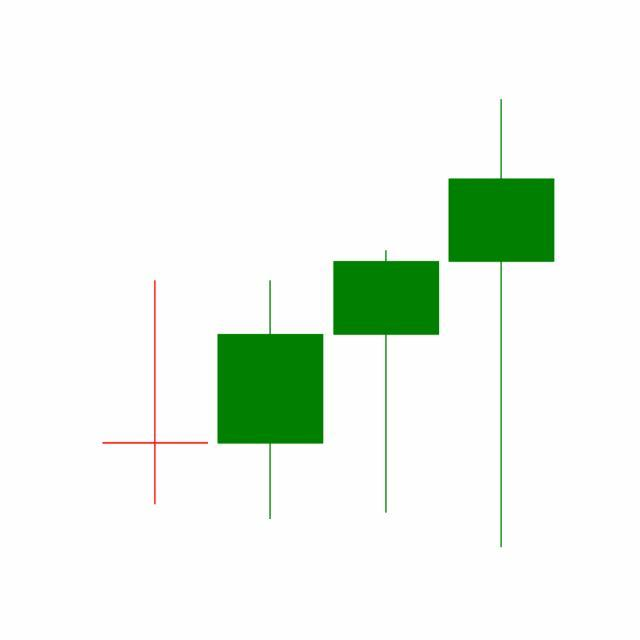Hanging Man: (329, 248, 445, 517)
